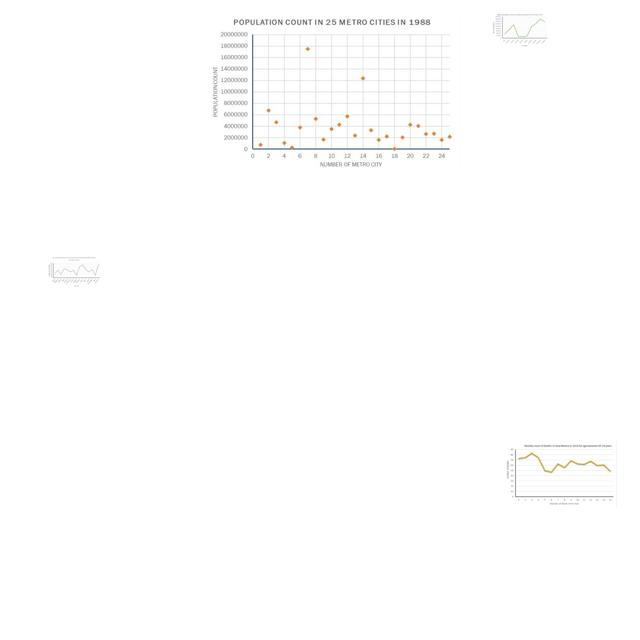Graph: (211, 14, 460, 174), (504, 441, 617, 508), (492, 13, 548, 47), (47, 256, 101, 287)
